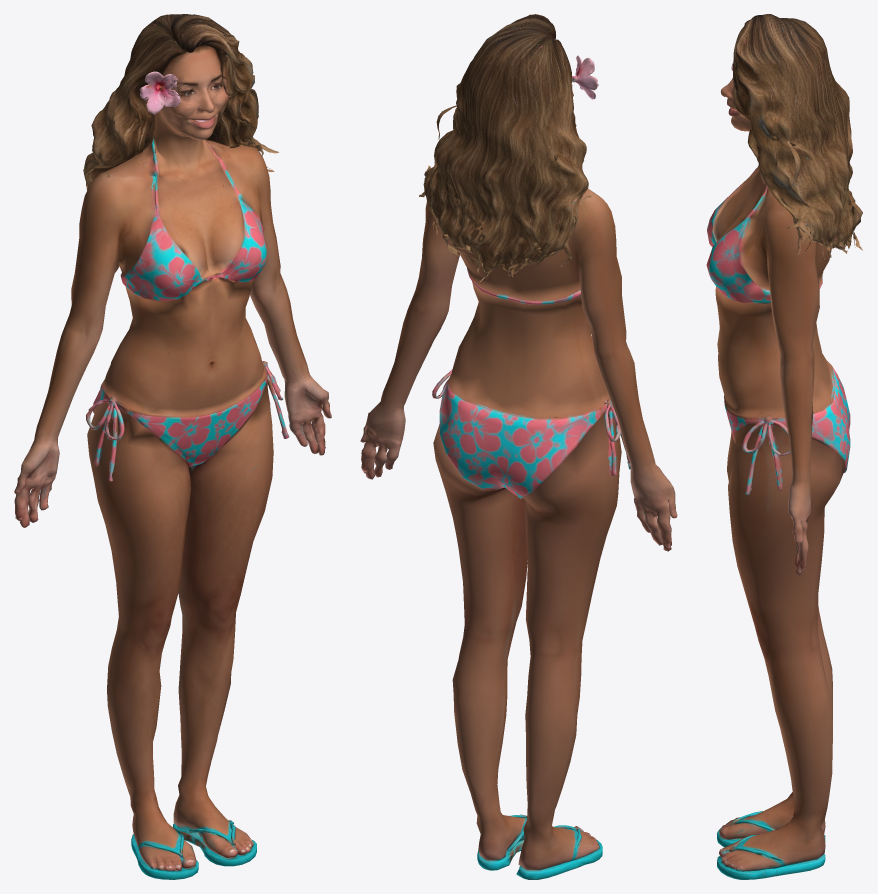
File: meshy-lagoon-beachgirl-static.glb
3 renders of one model, left to right at view 1: azimuth 30°, elevation 25°; view 2: azimuth 150°, elevation 25°; view 3: azimuth 270°, elevation 25°, orthographic.
Bounding box in the file's own units: 0.3765 × 0.9512 × 0.1616.
1 material, 1 textured.
